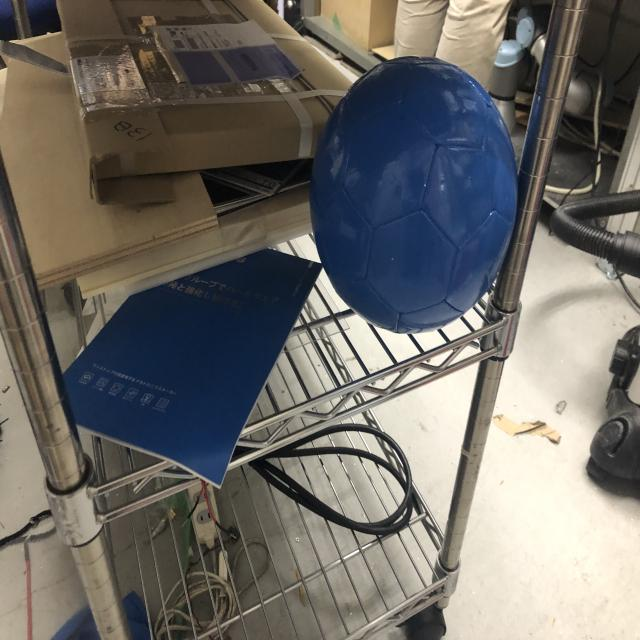blue_ball: (309, 60, 521, 336)
